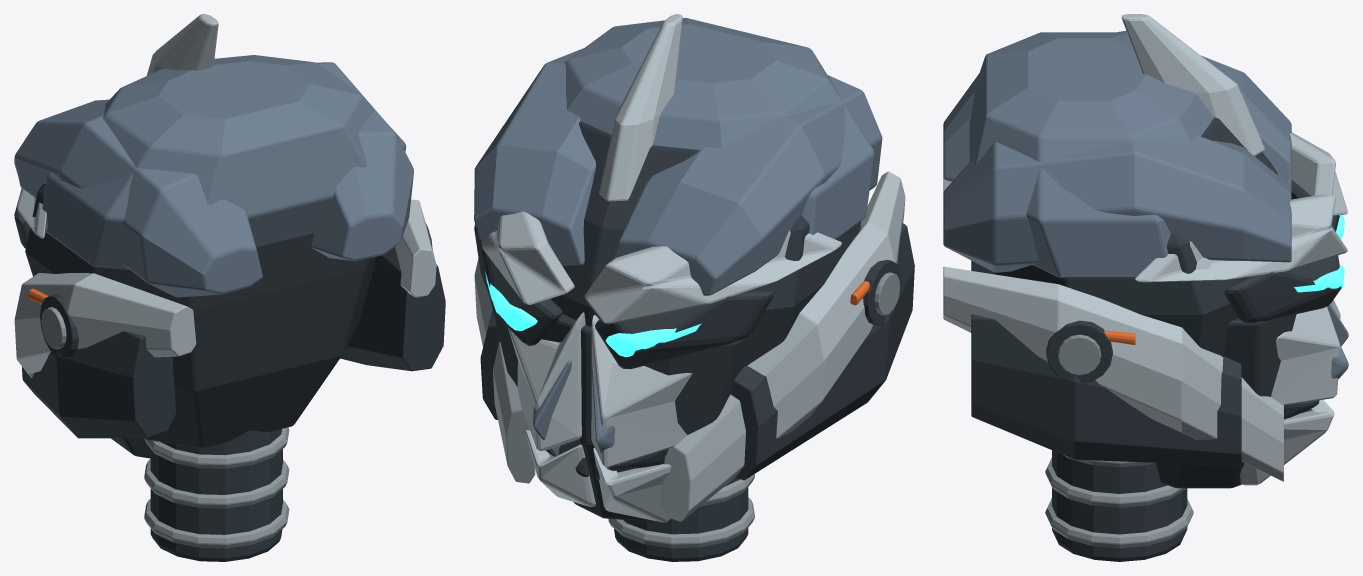
The picture shows the model from 3 angles, left to right: view 1: azimuth 30°, elevation 25°; view 2: azimuth 150°, elevation 25°; view 3: azimuth 270°, elevation 25°; orthographic projection. The views are drawn at different scales.
Parts seen in each view (by area): view 1: Head_hero; view 2: Head_hero; view 3: Head_hero.
Boxes of the visible parts, bbox=[...] form: Head_hero: bbox=[14, 14, 445, 561]; Head_hero: bbox=[474, 14, 914, 561]; Head_hero: bbox=[943, 14, 1348, 561].
Size of the model in its own units: 0.4656 by 0.6166 by 0.4356.
